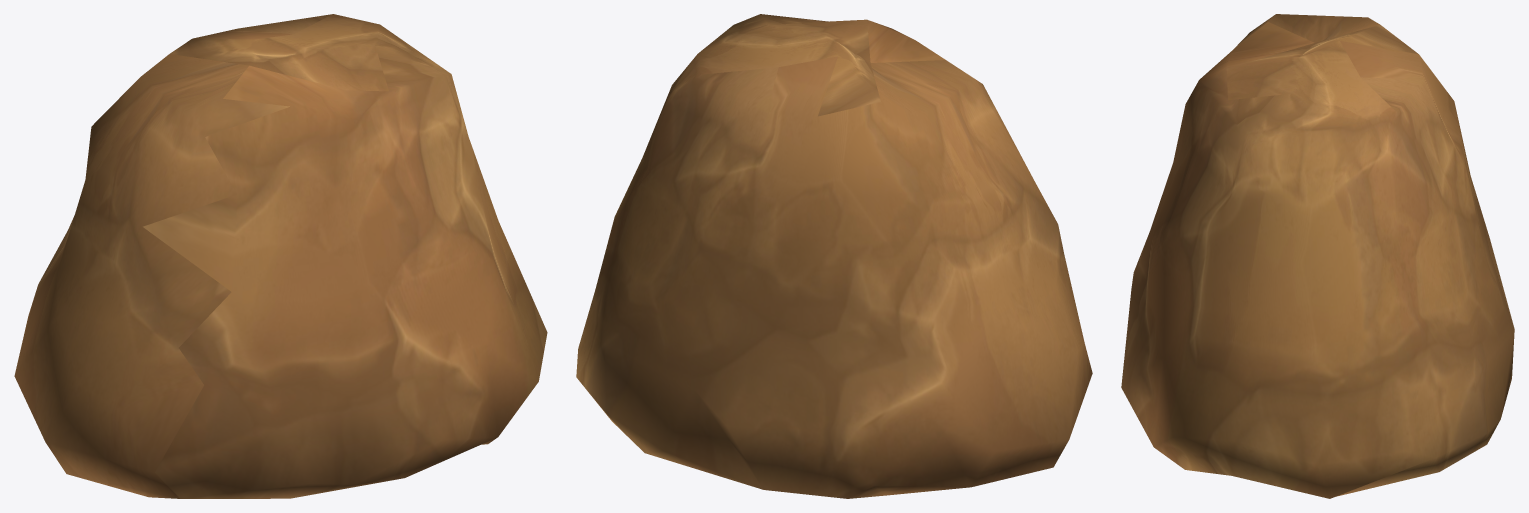
File: SM_Rock_0.fbx
3 renders of one model, left to right at view 1: azimuth 30°, elevation 25°; view 2: azimuth 150°, elevation 25°; view 3: azimuth 270°, elevation 25°, orthographic. The views are drawn at different scales.
Visible parts, largest first — view 1: Cube.001; view 2: Cube.001; view 3: Cube.001.
Boxes of the visible parts, left/top/right/bottom form: Cube.001: left=14, top=14, right=547, bottom=498; Cube.001: left=576, top=14, right=1092, bottom=498; Cube.001: left=1121, top=14, right=1514, bottom=498.
Size of the model in its own units: 1337 by 1077 by 1018.
